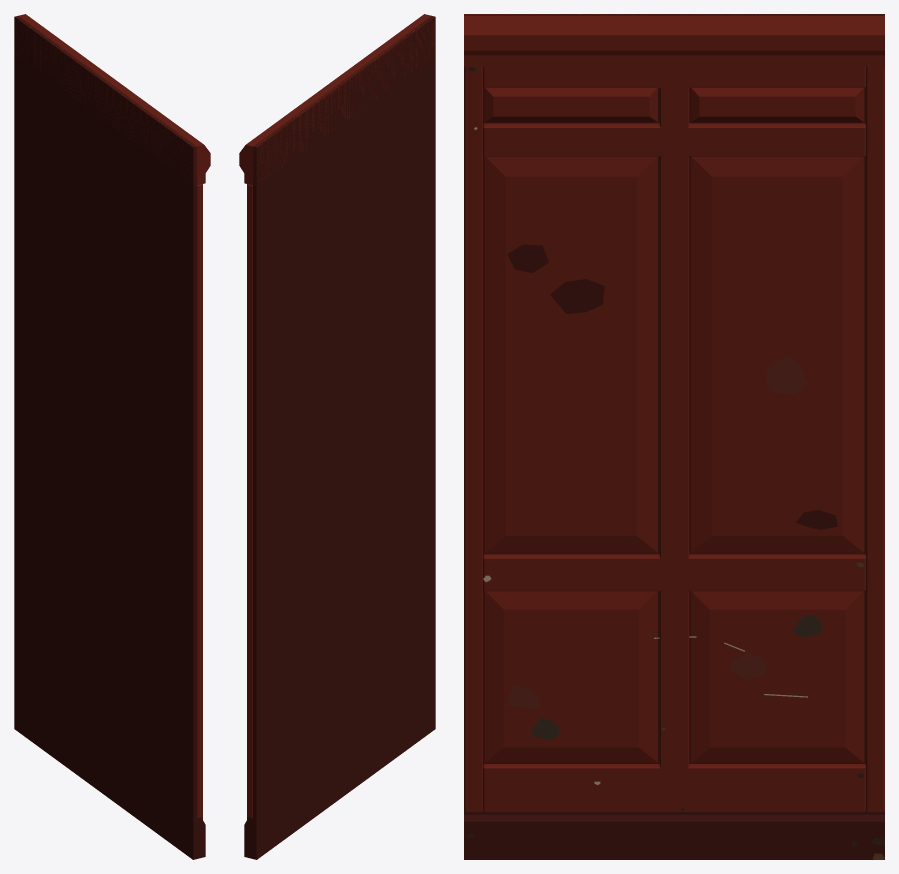
File: panel_vermilion.glb
3 views of the same model, side by side, from view 1: azimuth 30°, elevation 25°; view 2: azimuth 150°, elevation 25°; view 3: azimuth 270°, elevation 25° (orthographic). The views are drawn at different scales.
Parts seen in each view (by area): view 1: teil0, teil1; view 2: teil0, teil1; view 3: teil1, teil0, teil6, teil5.
Boxes of the visible parts, x1,y1,x2,y2 form: teil0: (14, 16, 205, 859); teil1: (14, 14, 210, 818); teil0: (244, 16, 435, 859); teil1: (239, 14, 435, 818); teil1: (464, 14, 884, 812); teil0: (464, 14, 884, 859); teil6: (507, 355, 808, 709); teil5: (532, 615, 823, 739).
Size of the model in its own units: 0.056 by 2.2 by 1.
